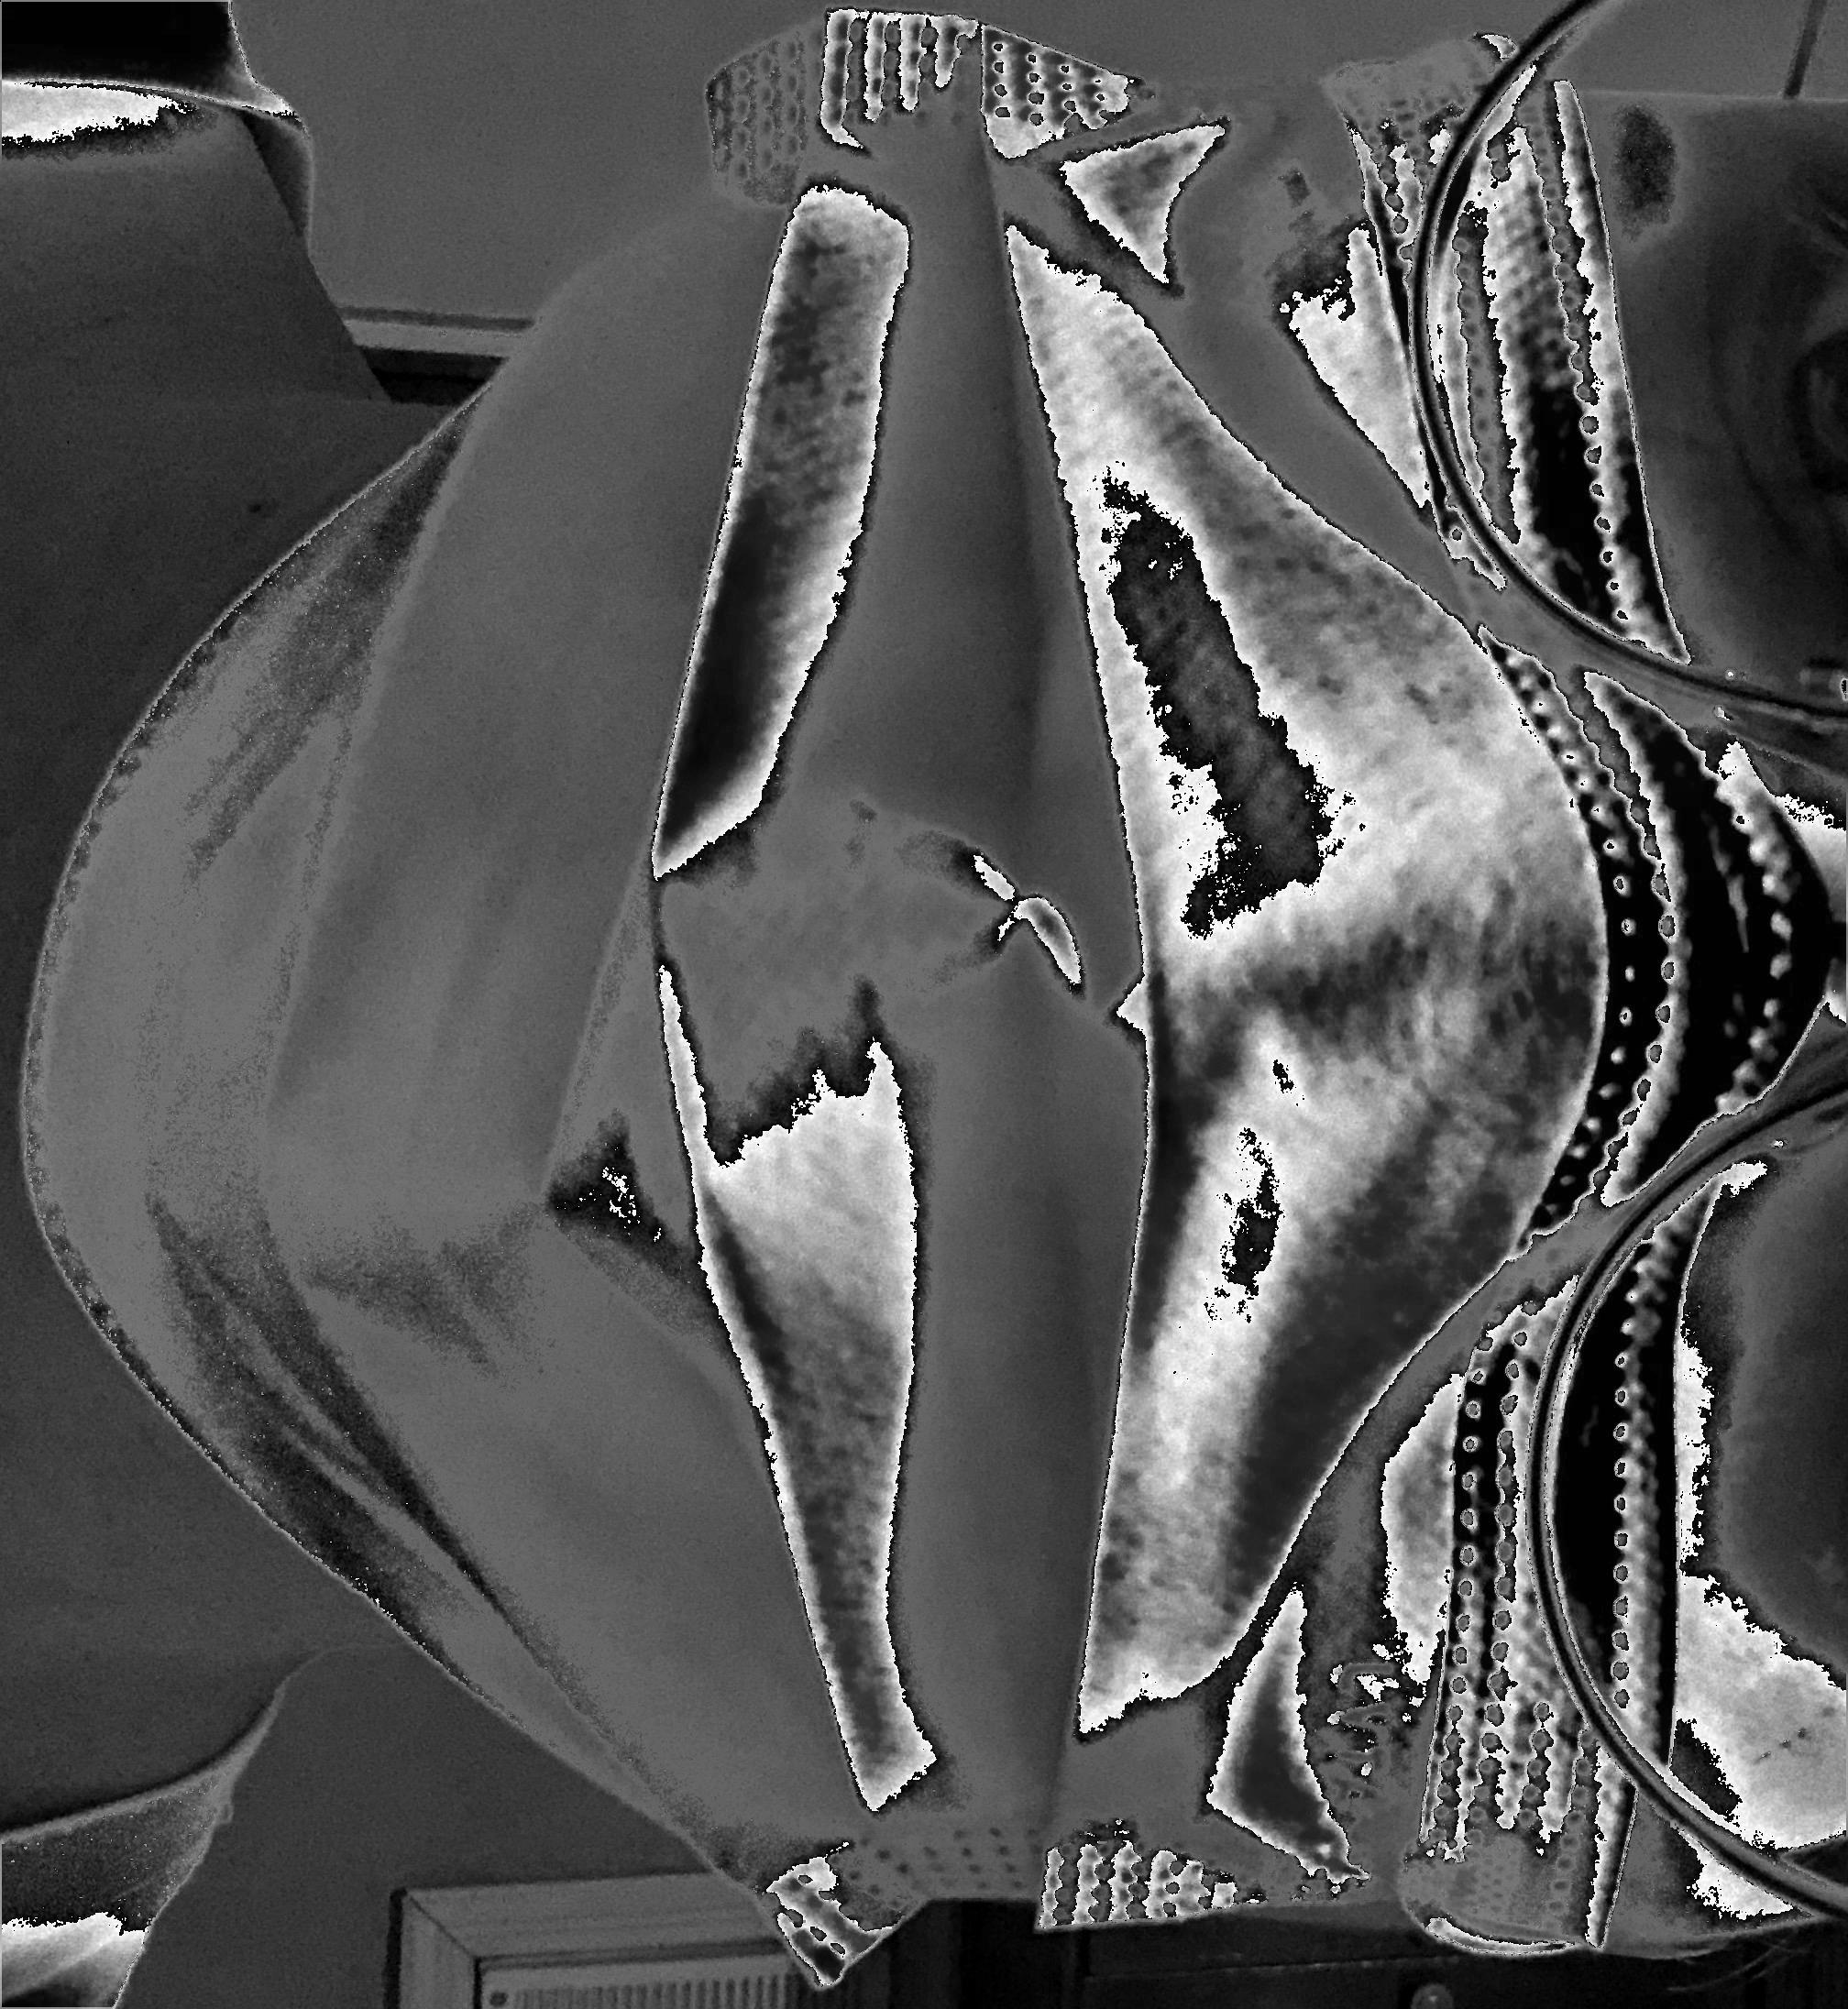High GSM: (1123, 670, 1589, 1214), (698, 1148, 917, 1466), (1029, 276, 1223, 518), (787, 185, 868, 546)
